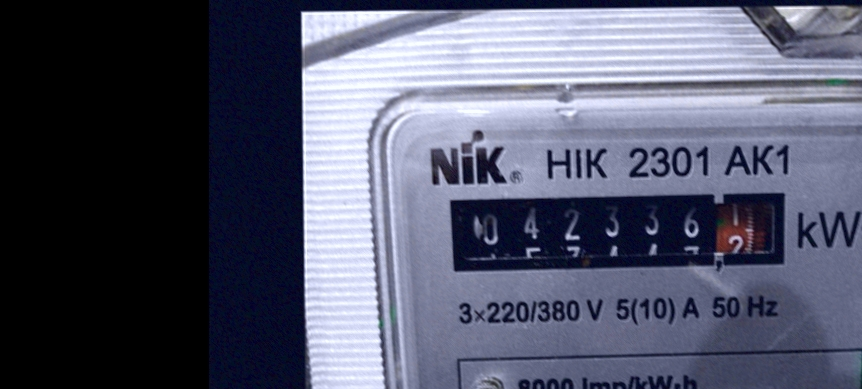0: (482, 213, 502, 248)
1: (730, 201, 743, 230)
2: (563, 208, 583, 244), (727, 235, 746, 256)
3: (604, 204, 623, 242), (642, 203, 662, 239)
4: (523, 206, 542, 243)
6: (681, 206, 703, 241)
screen: (444, 185, 797, 282)
